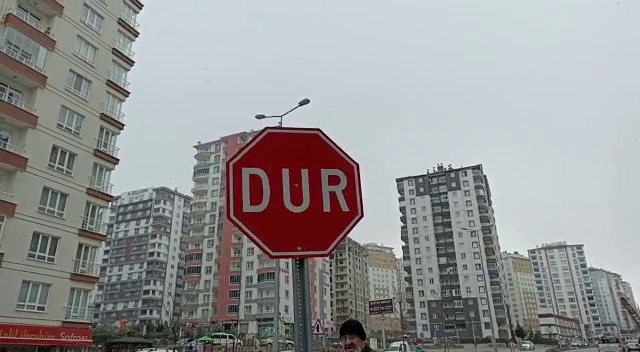stop: (223, 125, 367, 260)
